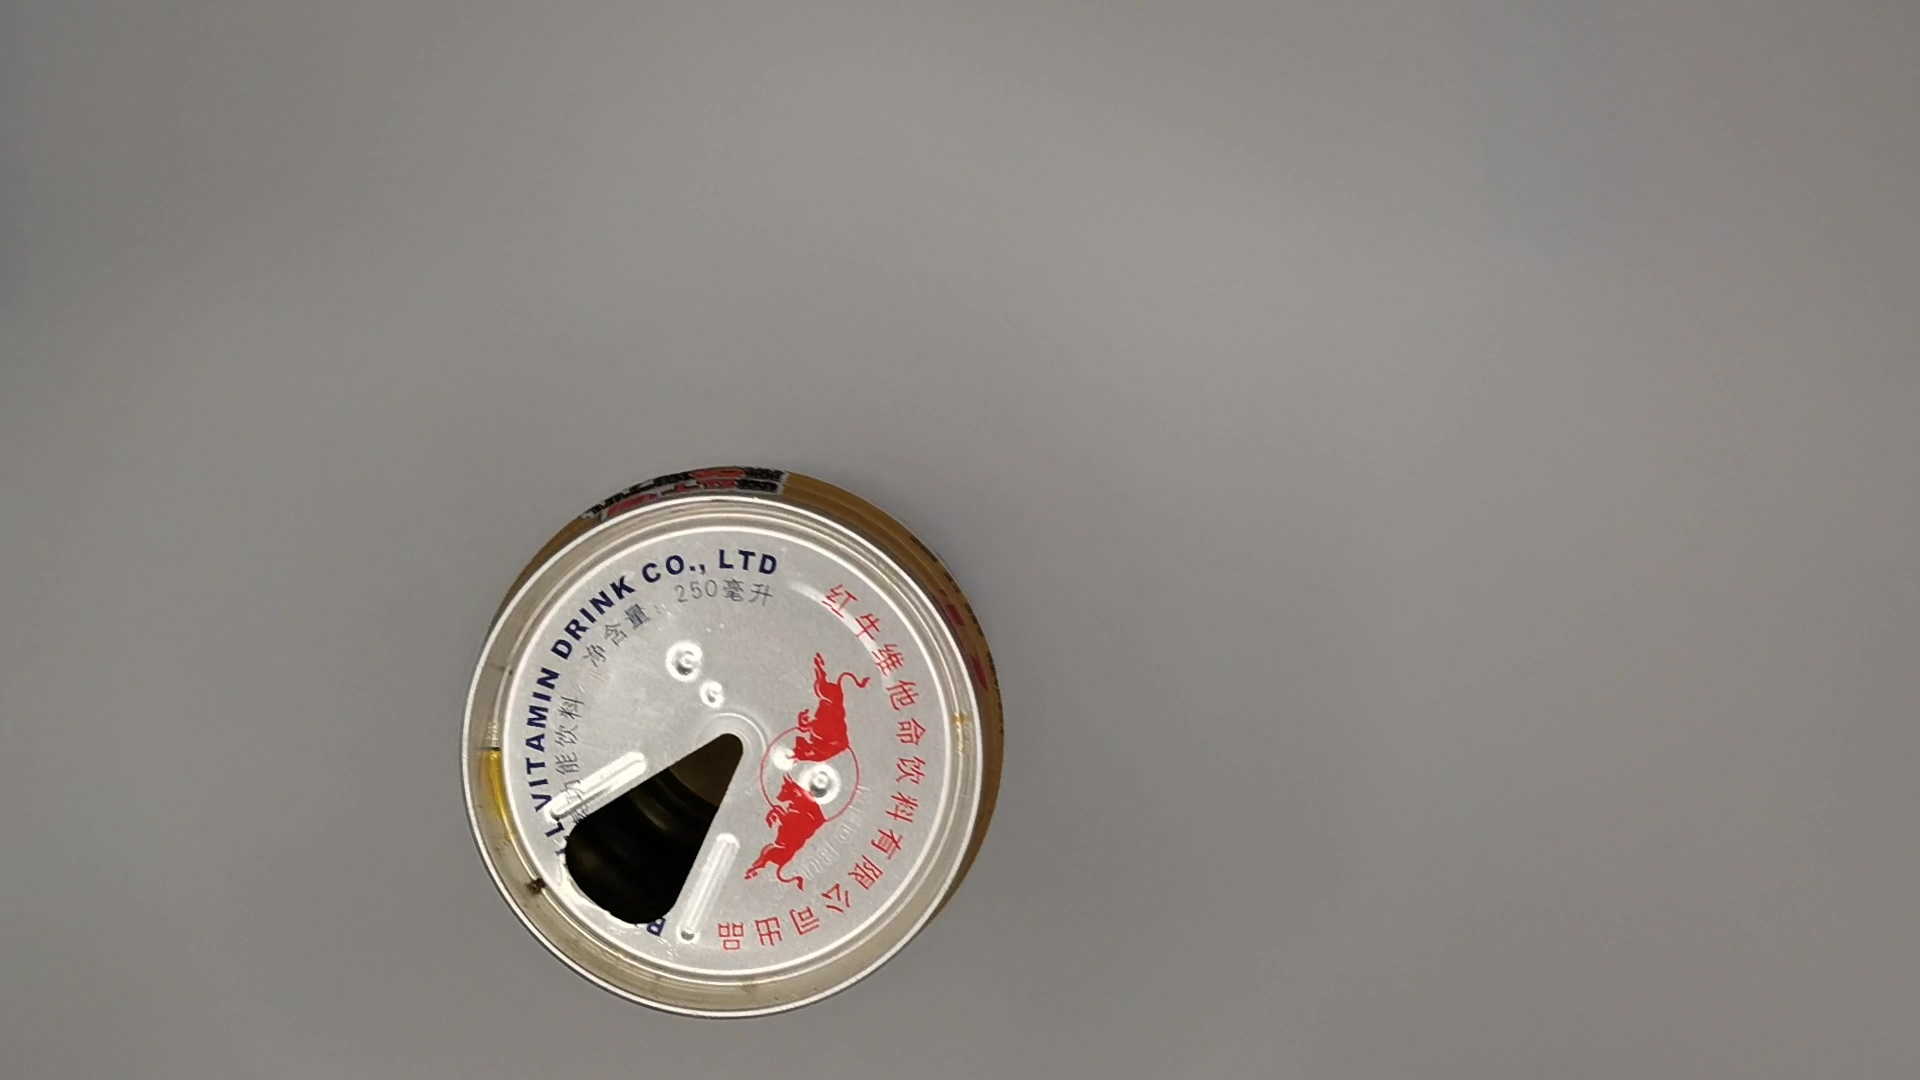can: (454, 458, 1017, 1023)
